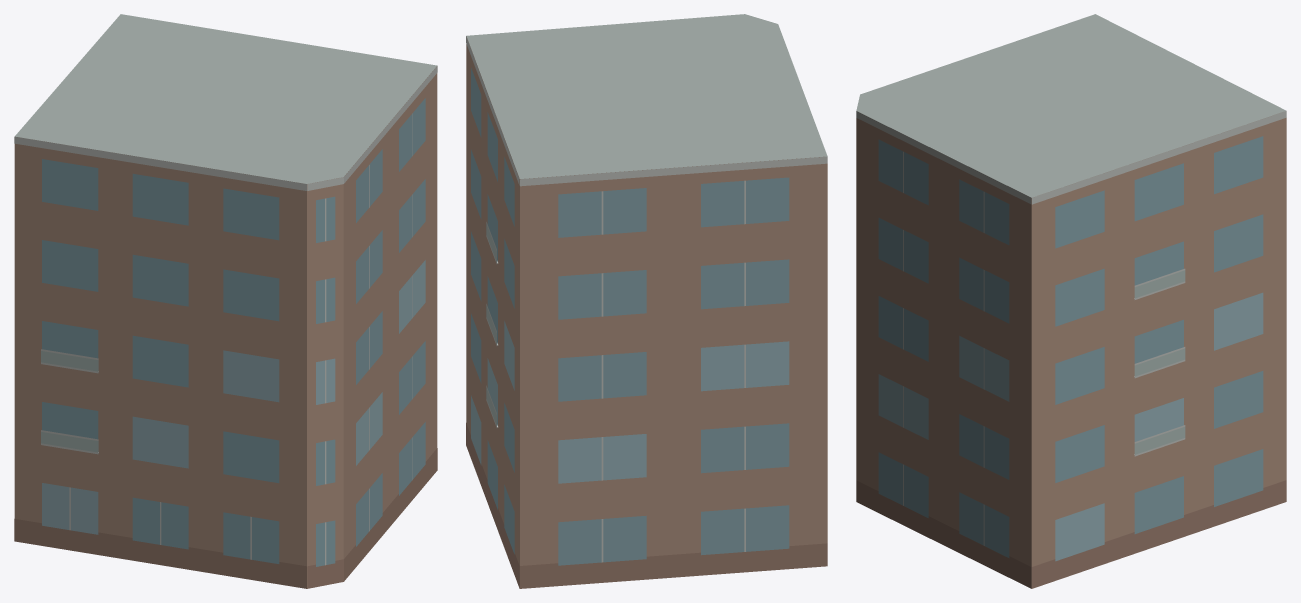
File: survey-upis-32685606.glb
3 views of the same model, side by side, from view 1: azimuth 30°, elevation 25°; view 2: azimuth 150°, elevation 25°; view 3: azimuth 270°, elevation 25° (orthographic). The views are drawn at different scales.
Parts seen in each view (by area): view 1: survey-upis-32685606.tmp; view 2: survey-upis-32685606.tmp; view 3: survey-upis-32685606.tmp.
Part boxes in pixels (<box>): survey-upis-32685606.tmp: <box>14,14,437,588</box>; survey-upis-32685606.tmp: <box>466,14,827,588</box>; survey-upis-32685606.tmp: <box>856,14,1286,588</box>.
Size of the model in its own units: 14.02 by 13.9 by 13.87.
